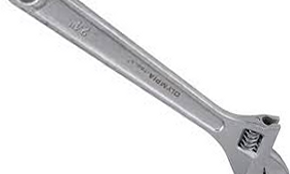Wrench: (8, 1, 290, 174)
